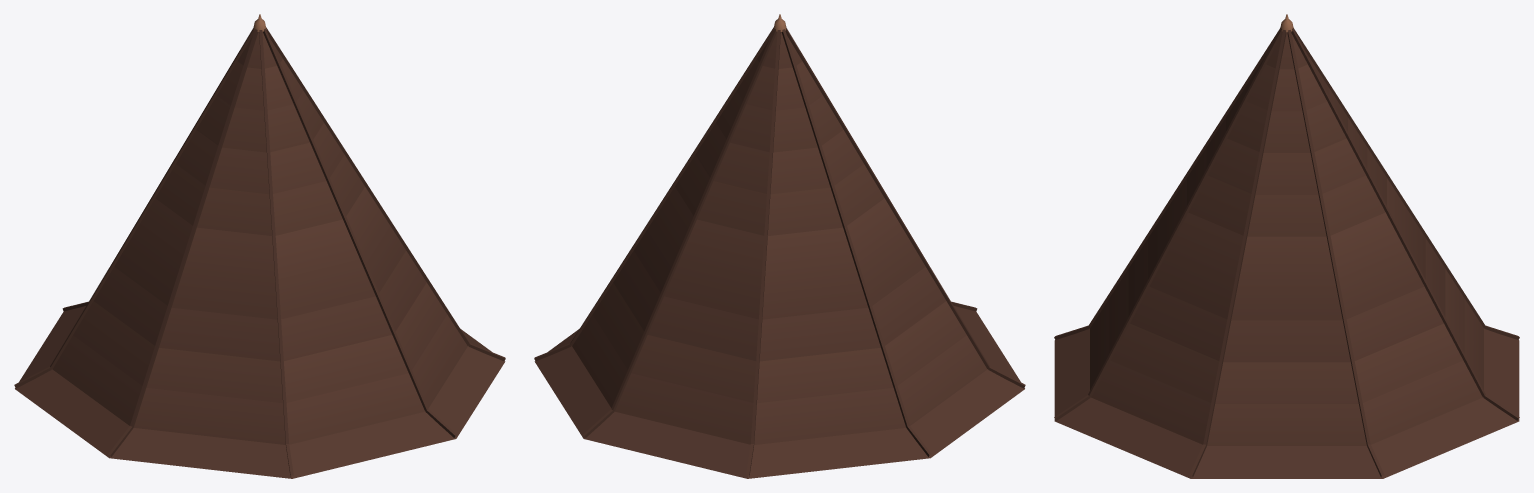
Rendered from roof.spire_faceted.shingle.glb.
3 views of the same model, side by side, from view 1: azimuth 30°, elevation 25°; view 2: azimuth 150°, elevation 25°; view 3: azimuth 270°, elevation 25° (orthographic).
Parts seen in each view (by area): view 1: roof_spire_faceted_shingle; view 2: roof_spire_faceted_shingle; view 3: roof_spire_faceted_shingle.
Part boxes in pixels (x1,y1,x2,y2): roof_spire_faceted_shingle: (14, 14, 505, 478); roof_spire_faceted_shingle: (534, 14, 1025, 478); roof_spire_faceted_shingle: (1054, 14, 1519, 478).
Size of what is drawn, in the model's own units: 17.28 by 15 by 17.28.
